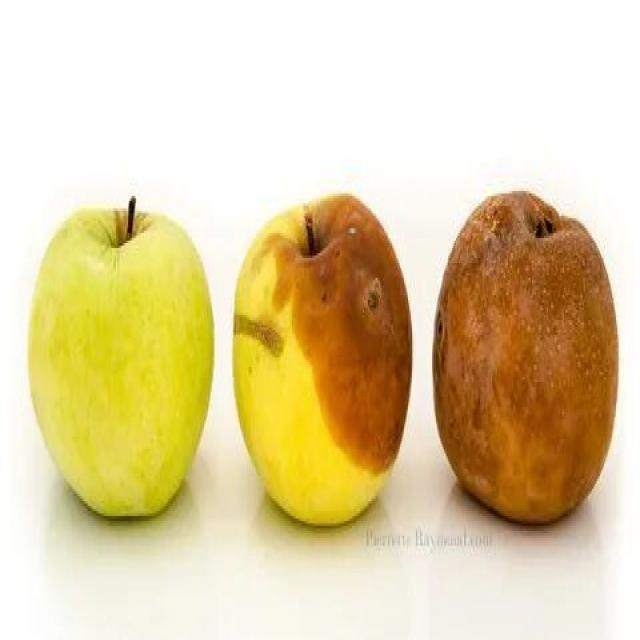Fresh Apple: (28, 224, 234, 524)
Rotten: (217, 195, 418, 518), (432, 195, 610, 518)
